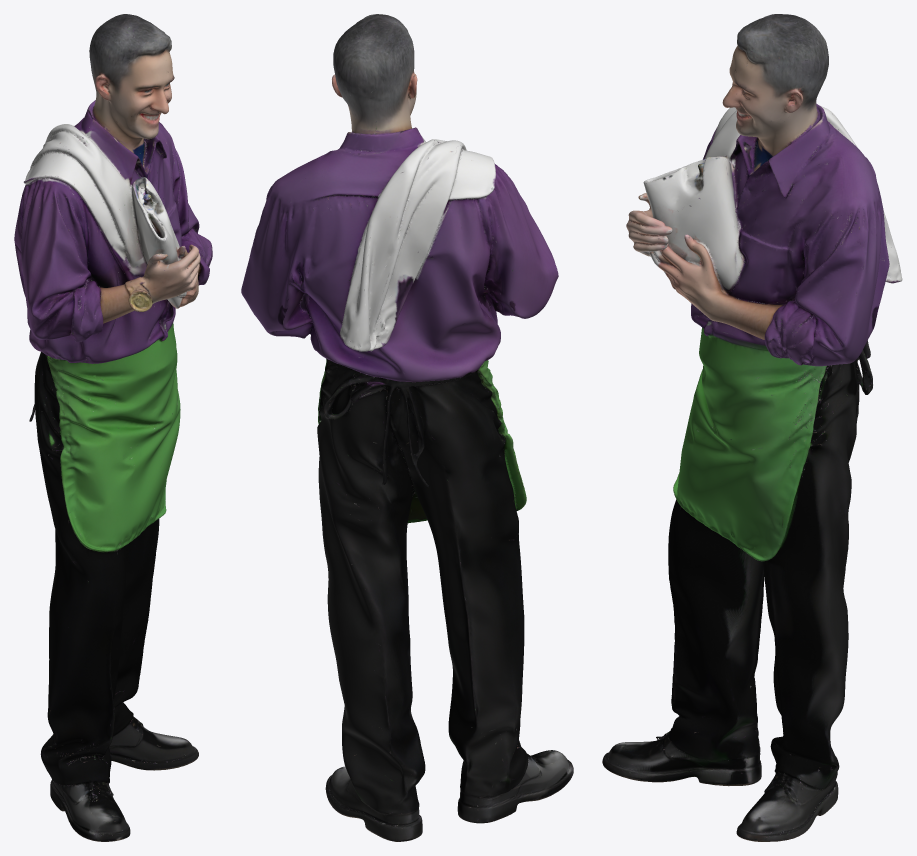
The model's file is Meshy_AI_Bartender_Ready_0129171406_texture.fbx.
3 views of the same model, side by side, from view 1: azimuth 30°, elevation 25°; view 2: azimuth 150°, elevation 25°; view 3: azimuth 270°, elevation 25° (orthographic). The views are drawn at different scales.
Parts seen in each view (by area): view 1: Mesh_0; view 2: Mesh_0; view 3: Mesh_0.
Boxes of the visible parts, box(x1,y1,x2,y2) form: Mesh_0: box(14, 14, 212, 841); Mesh_0: box(241, 14, 573, 841); Mesh_0: box(602, 14, 902, 841).
Bounding box in the file's own units: 65.15 × 200 × 67.59.
1 material, 1 textured.
